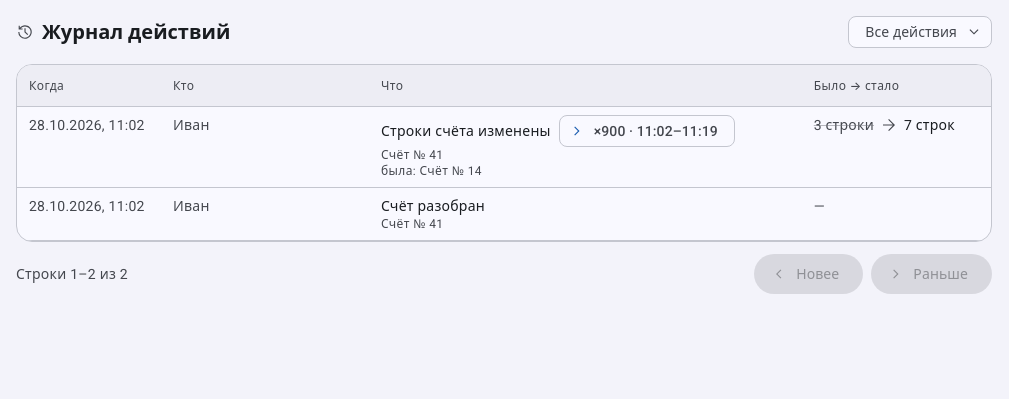
Test: журнал действий рядами › ряд длиннее потолка раскрытия говорит, что показана часть
The width and height of the screenshot is (1009, 399).
What coordinates should you click on to do the following:
click the button named "показать записи"
I would click on:
 (647, 131)
Its box is top-left (559, 115), bottom-right (735, 147).
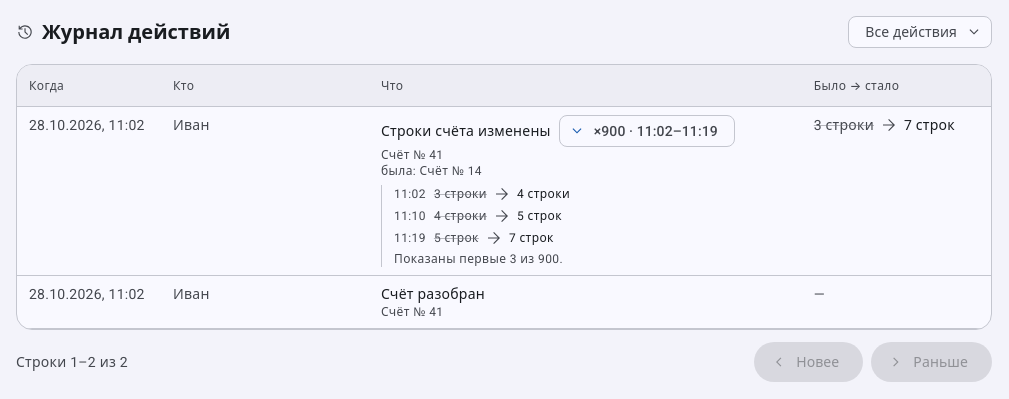
Expected: the list item "Показаны первые 3 из 900." is shown, top-left (394, 252), bottom-right (563, 266)
